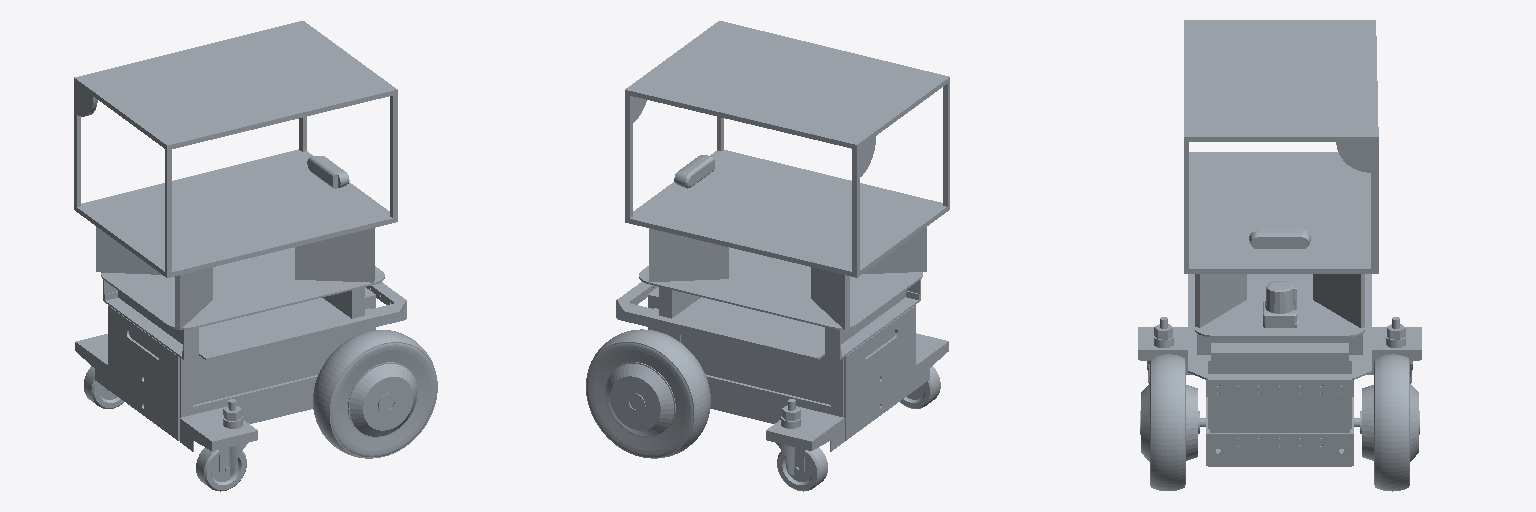
robot.urdf — krytn:
<?xml version="1.0" ?>
<robot name="krytn">
  <!--Generated by CROSS, a ROS Workbench for FreeCAD (https://github.com/galou/freecad.cross)-->
  <link name="base_footprint">
    <visual>
      <!--visual_base_footprint-->
      <origin rpy="0.0 -0.0 0.0" xyz="0.0 0.0 0.0"/>
      <geometry>
        <mesh filename="package://krytn_tray/meshes/krytn_tray_ex_visual_base_footprint_.dae"/>
      </geometry>
    </visual>
    <collision>
      <!--collision_base_footprint-->
      <origin rpy="0.0 -0.0 0.0" xyz="0.0 0.0 0.0"/>
      <geometry>
        <mesh filename="package://krytn_tray/meshes/krytn_tray_ex_collision_base_footprint_.dae"/>
      </geometry>
    </collision>
    <inertial>
      <mass value="0.0"/>
      <origin rpy="0.0 -0.0 0.0" xyz="0.0 0.0 0.0"/>
      <inertia ixx="0.0" ixy="0.0" ixz="0.0" iyy="0.0" iyz="0.0" izz="0.0"/>
    </inertial>
  </link>
  <link name="base_link">
    <visual>
      <!--visual_base_link/base_link_visual.-->
      <origin rpy="0.0 -0.0 0.0" xyz="-0.11 0.0 -0.029"/>
      <geometry>
        <mesh filename="package://krytn_tray/meshes/krytn_tray_ex_magni_body.dae.dae"/>
      </geometry>
    </visual>
    <collision>
      <!--collision_base_link/base_link_collision.-->
      <origin rpy="0.0 -0.0 0.0" xyz="-0.11 0.0 0.051"/>
      <geometry>
        <box size="0.398 0.268 0.16"/>
      </geometry>
    </collision>
    <collision>
      <!--collision_base_link/base_link_collision001.-->
      <origin rpy="0.0 -0.0 0.0" xyz="-0.136 0.0 0.148"/>
      <geometry>
        <box size="0.375 0.268 0.034"/>
      </geometry>
    </collision>
    <collision>
      <!--collision_base_link/base_link_collision002.-->
      <origin rpy="0.0 -0.0 0.0" xyz="-0.279 0.169 0.006"/>
      <geometry>
        <box size="0.1 0.07 0.07"/>
      </geometry>
    </collision>
    <collision>
      <!--collision_base_link/base_link_collision003.-->
      <origin rpy="0.0 -0.0 0.0" xyz="-0.279 -0.169 0.006"/>
      <geometry>
        <box size="0.1 0.07 0.07"/>
      </geometry>
    </collision>
    <inertial>
      <mass value="10.0"/>
      <origin rpy="0.0 -0.0 0.0" xyz="-0.15 0.0 0.03"/>
      <inertia ixx="0.059450809553" ixy="0.0" ixz="0.0" iyy="0.150753273032" iyz="0.0" izz="0.17270409758500002"/>
    </inertial>
  </link>
  <link name="left_wheel">
    <visual>
      <!--visual_left_wheel/left_wheel_visual.-->
      <origin rpy="0.0 -1.5707963267948966 0.0" xyz="-1.57652e-17 0.0 -0.071"/>
      <geometry>
        <mesh filename="package://krytn_tray/meshes/krytn_tray_ex_front_wheel.dae.dae"/>
      </geometry>
    </visual>
    <collision>
      <!--collision_left_wheel/left_wheel_collision.-->
      <origin rpy="0.0 -0.0 0.0" xyz="7.32747e-18 0.0 0.033"/>
      <geometry>
        <cylinder length="0.01" radius="0.1"/>
      </geometry>
    </collision>
    <inertial>
      <mass value="1.34"/>
      <origin rpy="-0.0 1.5707963267948966 0.0" xyz="0.0 0.0 0.0"/>
      <inertia ixx="0.003629165215000001" ixy="0.0" ixz="0.0" iyy="0.003629165215000001" iyz="0.0" izz="0.006700000000000001"/>
    </inertial>
  </link>
  <link name="right_wheel">
    <visual>
      <!--visual_right_wheel/right_wheel_visual.-->
      <origin rpy="-0.0 1.5707963267948961 0.0" xyz="1.57652e-17 0.0 0.071"/>
      <geometry>
        <mesh filename="package://krytn_tray/meshes/krytn_tray_ex_front_wheel.dae.dae"/>
      </geometry>
    </visual>
    <collision>
      <!--collision_right_wheel/right_wheel_collision.-->
      <origin rpy="0.0 -0.0 0.0" xyz="-7.32747e-18 0.0 -0.033"/>
      <geometry>
        <cylinder length="0.01" radius="0.1"/>
      </geometry>
    </collision>
    <inertial>
      <mass value="1.34"/>
      <origin rpy="-0.0 1.5707963267948966 0.0" xyz="0.0 0.0 0.0"/>
      <inertia ixx="0.003629165215000001" ixy="0.0" ixz="0.0" iyy="0.003629165215000001" iyz="0.0" izz="0.006700000000000001"/>
    </inertial>
  </link>
  <link name="left_caster_wheel">
    <visual>
      <!--visual_left_caster_wheel/left_caster_wheel_visual.-->
      <origin rpy="0.0 -0.0 3.141592653589793" xyz="-0.25 0.169 0.0"/>
      <geometry>
        <mesh filename="package://krytn_tray/meshes/krytn_tray_ex_caster_wheel.dae.dae"/>
      </geometry>
    </visual>
    <collision>
      <!--collision_left_caster_wheel/left_caster_wheel_collision.-->
      <geometry>
        <sphere radius="0.04"/>
      </geometry>
    </collision>
    <inertial>
      <mass value="0.0"/>
      <origin rpy="0.0 -0.0 0.0" xyz="0.0 0.0 0.0"/>
      <inertia ixx="0.0" ixy="0.0" ixz="0.0" iyy="0.0" iyz="0.0" izz="0.0"/>
    </inertial>
  </link>
  <link name="right_caster_wheel">
    <visual>
      <!--visual_right_caster_wheel/right_caster_wheel_visual.-->
      <origin rpy="0.0 -0.0 3.141592653589793" xyz="-0.25 -0.169 0.0"/>
      <geometry>
        <mesh filename="package://krytn_tray/meshes/krytn_tray_ex_caster_wheel.dae.dae"/>
      </geometry>
    </visual>
    <collision>
      <!--collision_right_caster_wheel/right_caster_wheel_collision.-->
      <geometry>
        <sphere radius="0.04"/>
      </geometry>
    </collision>
    <inertial>
      <mass value="0.0"/>
      <origin rpy="0.0 -0.0 0.0" xyz="0.0 0.0 0.0"/>
      <inertia ixx="0.0" ixy="0.0" ixz="0.0" iyy="0.0" iyz="0.0" izz="0.0"/>
    </inertial>
  </link>
  <link name="realsense_link">
    <visual>
      <!--visual_realsense_link/realsense_link_visual.-->
      <origin rpy="0.0 -0.0 1.5707963267948966" xyz="0.0 0.0 0.0"/>
      <geometry>
        <mesh filename="package://krytn_tray/meshes/krytn_tray_ex_realsense.dae.dae"/>
      </geometry>
    </visual>
    <collision>
      <!--collision_realsense_link/realsense_link_collision.-->
      <origin rpy="0.0 -0.0 1.5707963267948966" xyz="0.0 0.0 0.0"/>
      <geometry>
        <mesh filename="package://krytn_tray/meshes/krytn_tray_ex_realsense.dae.dae"/>
      </geometry>
    </collision>
    <inertial>
      <mass value="0.06"/>
      <origin rpy="0.0 -0.0 0.0" xyz="-0.15 0.0 0.03"/>
      <inertia ixx="5.04999798e-05" ixy="0.0" ixz="0.0" iyy="2.499999e-06" iyz="0.0" izz="5.19999792e-05"/>
    </inertial>
  </link>
  <link name="lidar_2d_link">
    <visual>
      <!--visual_lidar_2d_link/lidar_2d_link_visual.-->
      <origin rpy="0.0 -0.0 0.0" xyz="0.0 0.0 0.0"/>
      <geometry>
        <mesh filename="package://krytn_tray/meshes/krytn_tray_ex_lidar_2d_v1.dae.dae"/>
      </geometry>
    </visual>
    <collision>
      <!--collision_lidar_2d_link/lidar_2d_link_collision.-->
      <origin rpy="0.0 -0.0 0.0" xyz="0.0 0.0 0.0"/>
      <geometry>
        <box size="0.05001062 0.05001062 0.035003035"/>
      </geometry>
    </collision>
    <collision>
      <!--collision_lidar_2d_link/lidar_2d_link_collision001.-->
      <origin rpy="0.0 -0.0 0.0" xyz="0.0 0.0 0.0"/>
      <geometry>
        <cylinder length="0.035003035" radius="0.02"/>
      </geometry>
    </collision>
    <inertial>
      <mass value="0.13"/>
      <origin rpy="0.0 -0.0 0.0" xyz="-0.15 0.0 0.03"/>
      <inertia ixx="0.0027180822461000003" ixy="0.0" ixz="0.0" iyy="3.6833318600000004e-05" iyz="0.0" izz="0.0027354155725000003"/>
    </inertial>
  </link>
  <link name="krytn_tray">
    <visual>
      <!--Krytn_tray_part/Body.-->
      <origin rpy="0.0 -0.0 0.0" xyz="0.0 0.0 0.0"/>
      <geometry>
        <mesh filename="package://krytn_tray/meshes/krytn_tray_ex_Body.dae"/>
      </geometry>
    </visual>
    <collision>
      <!--Krytn_tray_part/Body.-->
      <origin rpy="0.0 -0.0 0.0" xyz="0.0 0.0 0.0"/>
      <geometry>
        <mesh filename="package://krytn_tray/meshes/krytn_tray_ex_Body.dae"/>
      </geometry>
    </collision>
    <inertial>
      <mass value="0.0"/>
      <origin rpy="0.0 -0.0 0.0" xyz="0.0 0.0 0.0"/>
      <inertia ixx="0.0" ixy="0.0" ixz="0.0" iyy="0.0" iyz="0.0" izz="0.0"/>
    </inertial>
  </link>
  <joint name="base_footprint_joint" type="fixed">
    <parent link="base_footprint"/>
    <child link="base_link"/>
    <origin rpy="0.0 -0.0 0.0" xyz="0.0 0.0 0.1"/>
  </joint>
  <joint name="left_wheel_joint" type="continuous">
    <parent link="base_link"/>
    <child link="left_wheel"/>
    <origin rpy="-1.5707963267948966 1.5707963267948963 0.0" xyz="0.0 0.163 0.0"/>
    <axis xyz="0 0 1"/>
  </joint>
  <joint name="right_wheel_joint" type="continuous">
    <parent link="base_link"/>
    <child link="right_wheel"/>
    <origin rpy="-1.5707963267948966 1.5707963267948963 0.0" xyz="0.0 -0.163 0.0"/>
    <axis xyz="0 0 1"/>
  </joint>
  <joint name="left_caster_wheel_joint" type="fixed">
    <parent link="base_link"/>
    <child link="left_caster_wheel"/>
    <origin rpy="0.0 -0.0 0.0" xyz="0.0 0.0 0.0"/>
  </joint>
  <joint name="right_caster_wheel_joint" type="fixed">
    <parent link="base_link"/>
    <child link="right_caster_wheel"/>
    <origin rpy="0.0 -0.0 0.0" xyz="0.0 0.0 0.0"/>
  </joint>
  <joint name="realsense_joint" type="fixed">
    <parent link="base_link"/>
    <child link="realsense_link"/>
    <origin rpy="0.0 -0.0 0.0" xyz="0.0 0.0 0.3"/>
  </joint>
  <joint name="lidar_2d_joint" type="fixed">
    <parent link="base_link"/>
    <child link="lidar_2d_link"/>
    <origin rpy="0.0 -0.0 0.0" xyz="0.0 0.0 0.15"/>
  </joint>
  <joint name="krytn_joint" type="fixed">
    <parent link="base_link"/>
    <child link="krytn_tray"/>
    <origin rpy="0.0 -0.0 0.0" xyz="0.052 0.0 0.264"/>
  </joint>
</robot>

--- Render facts (derived) ---
3 views of the same robot in one strip: view 1: azimuth 30°, elevation 25°; view 2: azimuth 150°, elevation 25°; view 3: azimuth 270°, elevation 25° (orthographic).
Model krytn with 9 links and 8 joints (2 continuous, 6 fixed), rooted at base_footprint, posed every joint at zero.
Links seen in each view (by area): view 1: krytn_tray, base_link, right_wheel, right_caster_wheel, realsense_link, left_caster_wheel; view 2: krytn_tray, base_link, left_wheel, left_caster_wheel, realsense_link, right_caster_wheel; view 3: krytn_tray, base_link, left_wheel, right_wheel, lidar_2d_link, realsense_link, right_caster_wheel, left_caster_wheel.
Link boxes in pixels (x1,y1,x2,y2): krytn_tray: (74,21,397,329); base_link: (75,247,406,451); right_wheel: (313,330,437,458); right_caster_wheel: (196,399,247,491); realsense_link: (307,156,349,188); left_caster_wheel: (84,366,123,408); krytn_tray: (625,21,949,329); base_link: (616,247,948,451); left_wheel: (586,329,710,458); left_caster_wheel: (776,399,827,491); realsense_link: (674,155,714,188); right_caster_wheel: (900,366,940,408); krytn_tray: (1184,20,1378,327); base_link: (1138,274,1421,466); left_wheel: (1354,354,1419,491); right_wheel: (1140,354,1205,490); lidar_2d_link: (1263,281,1298,327); realsense_link: (1249,229,1310,248); right_caster_wheel: (1147,317,1173,383); left_caster_wheel: (1386,317,1412,383).
Bounding box of the posed robot: 0.448 × 0.412 × 0.584 m (x, y, z).
8 mesh visuals loaded from 7 distinct referenced files (6 Collada DAE); not drawn: 1 (file found but could not be loaded).
